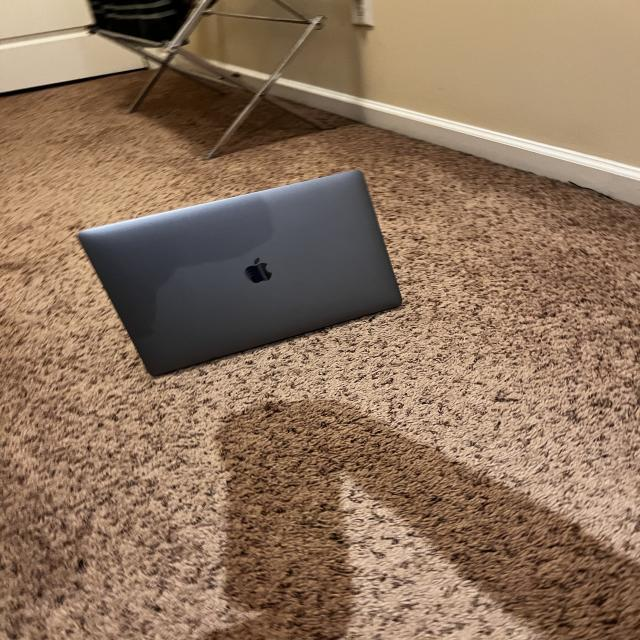laptop: (76, 167, 402, 377)
